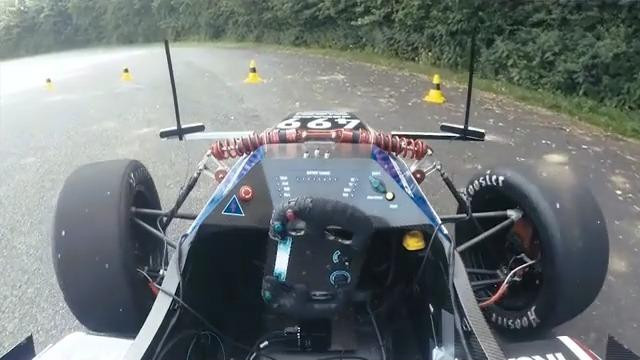yellow_cone: (421, 68, 448, 101), (242, 57, 261, 91), (118, 59, 142, 81)
